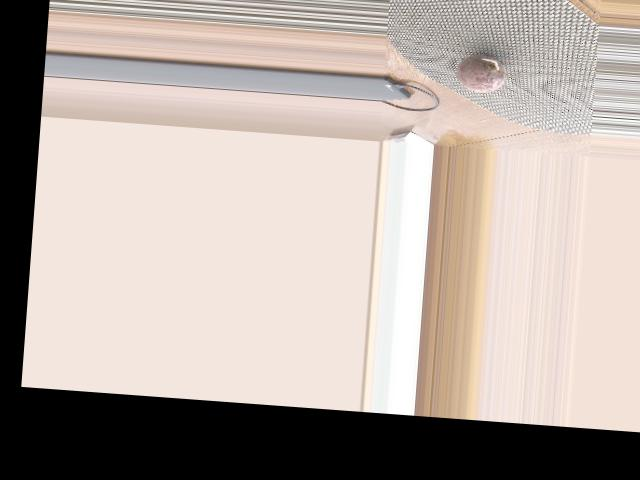beet: (454, 53, 506, 93)
